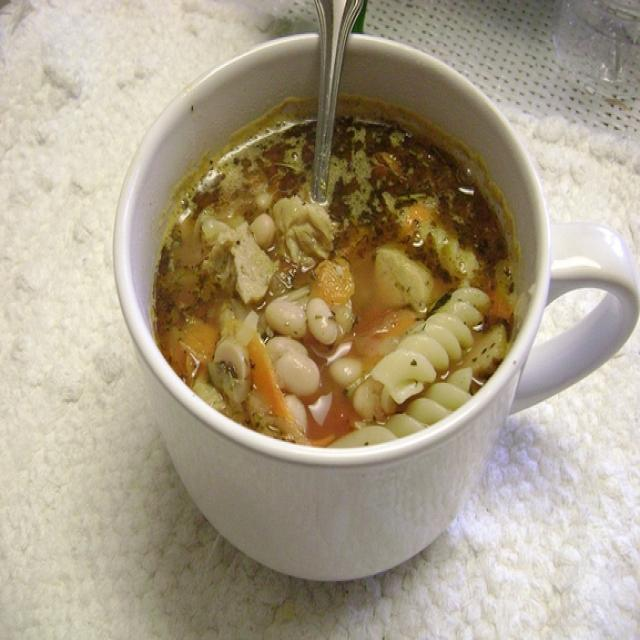汤锅炖物: (43, 18, 626, 585)
